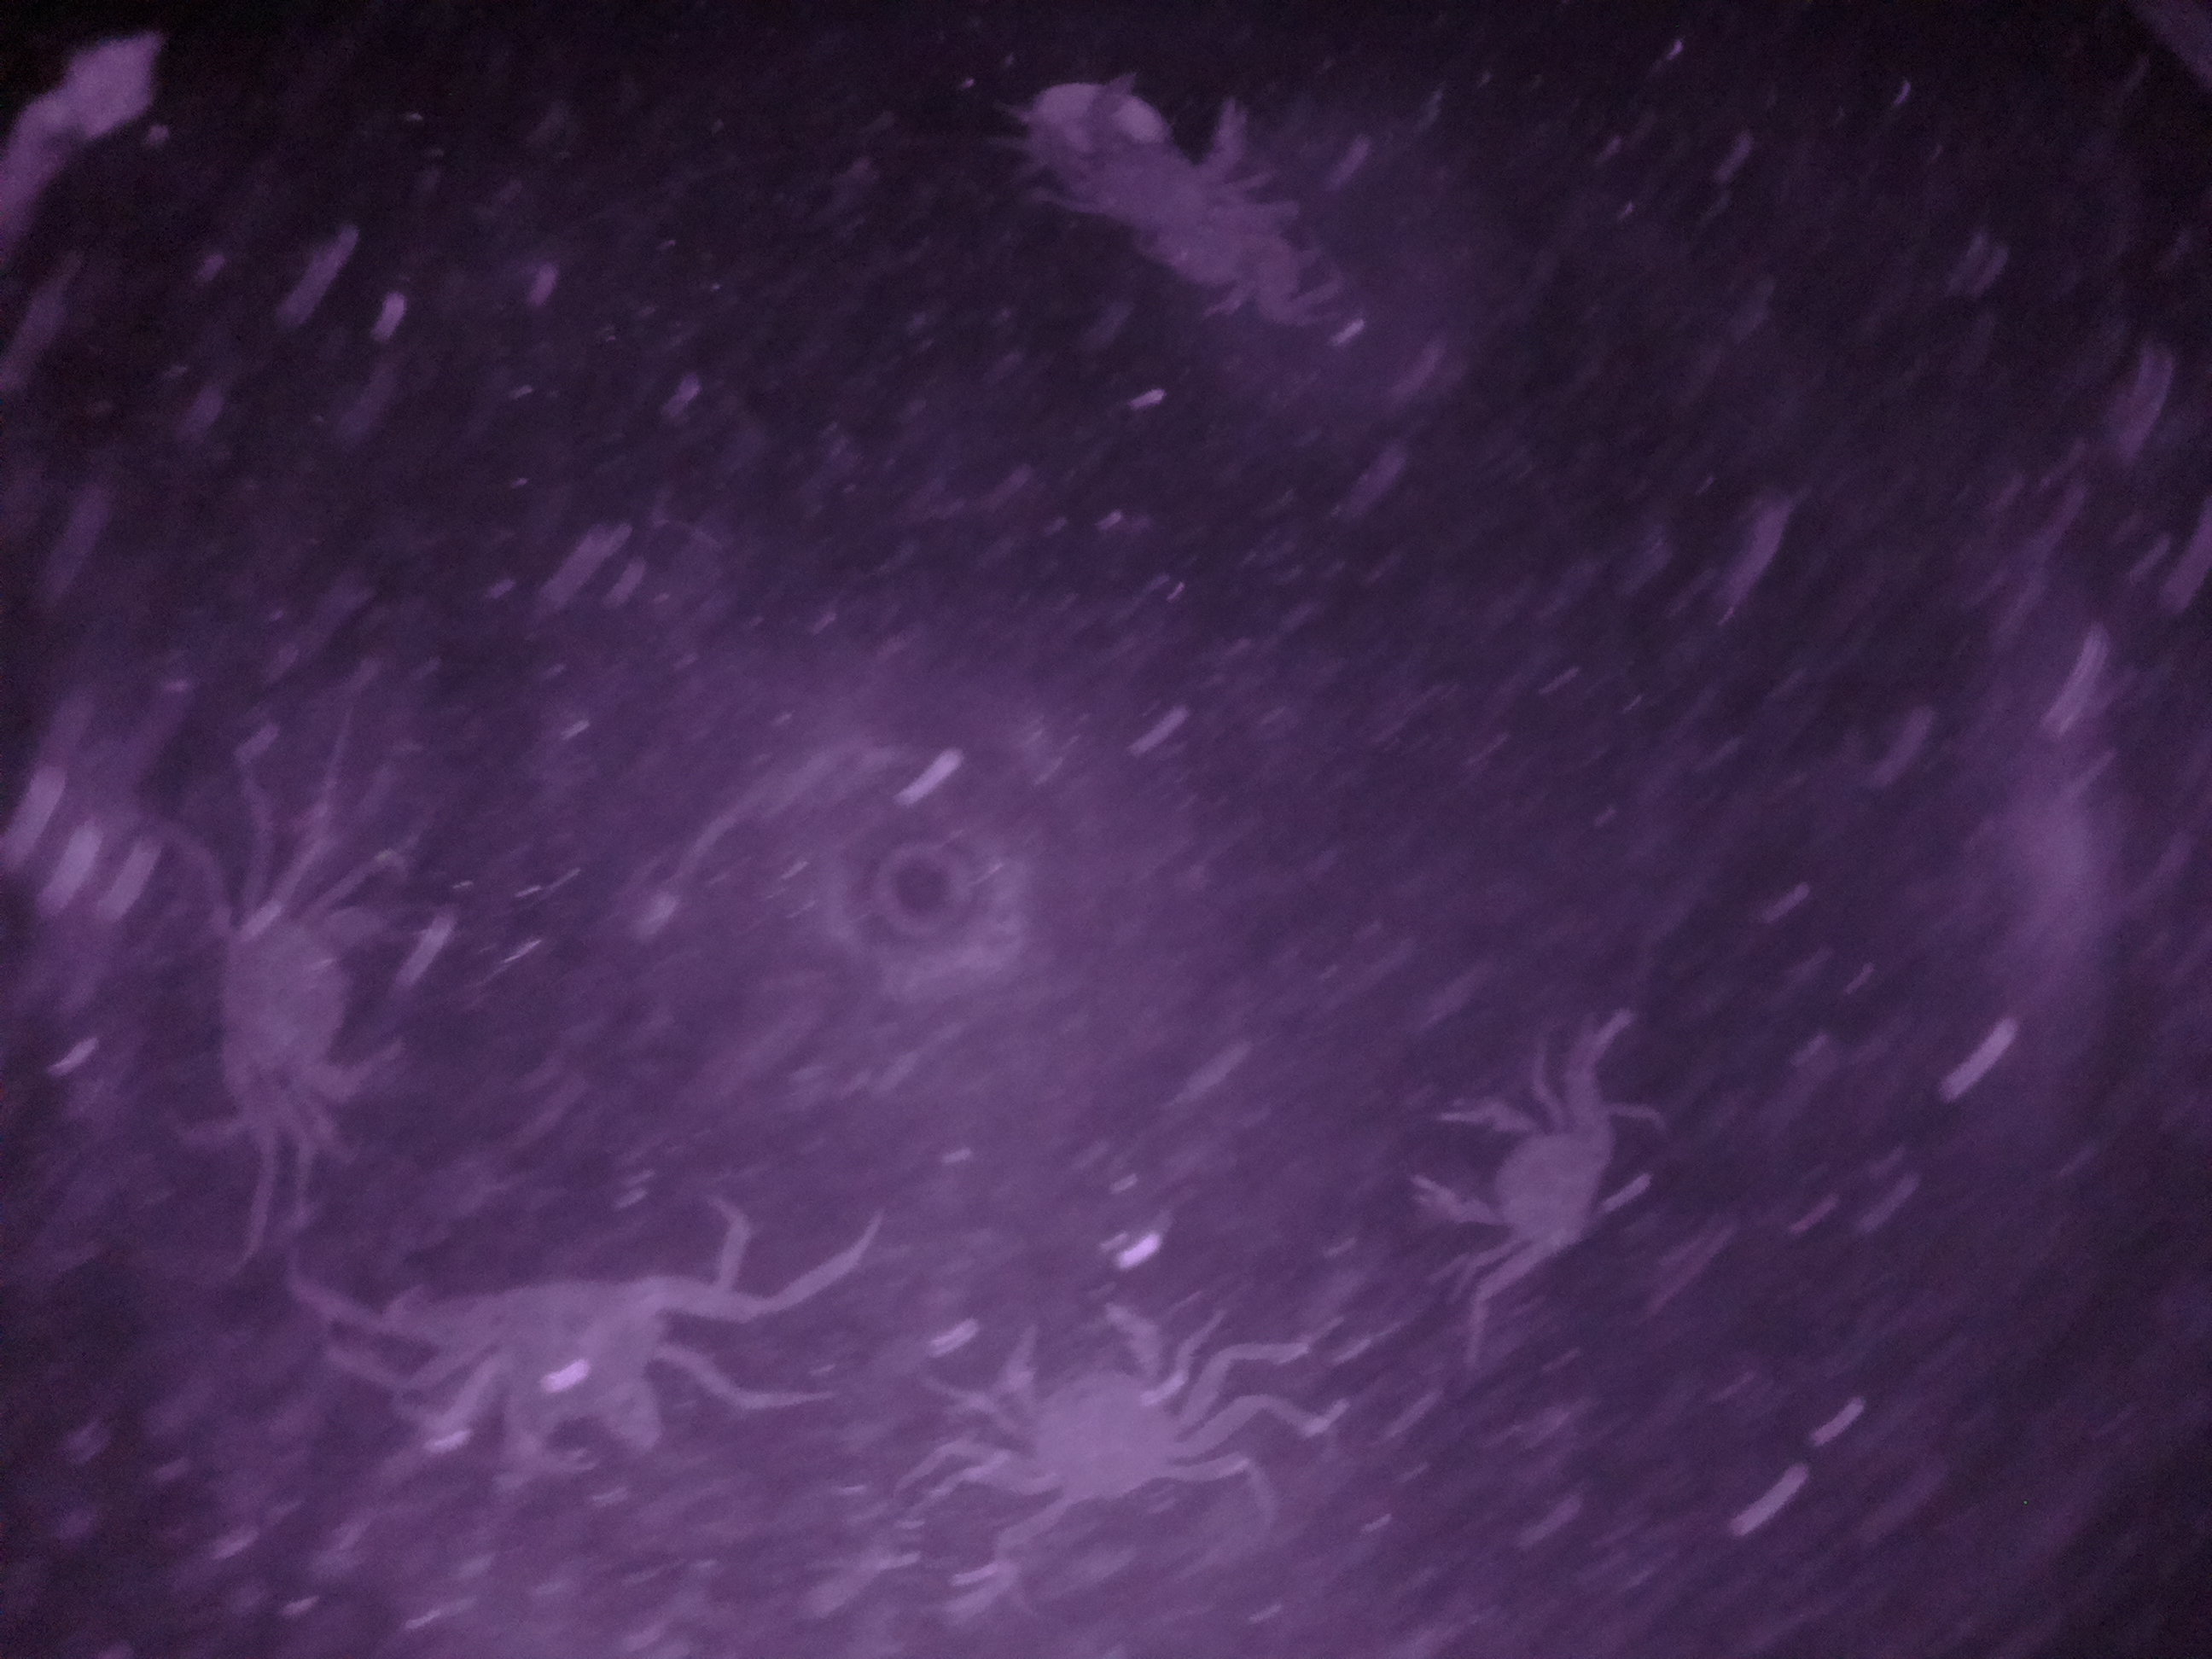Crab: (939, 1290, 1249, 1539), (1397, 1046, 1655, 1284)
